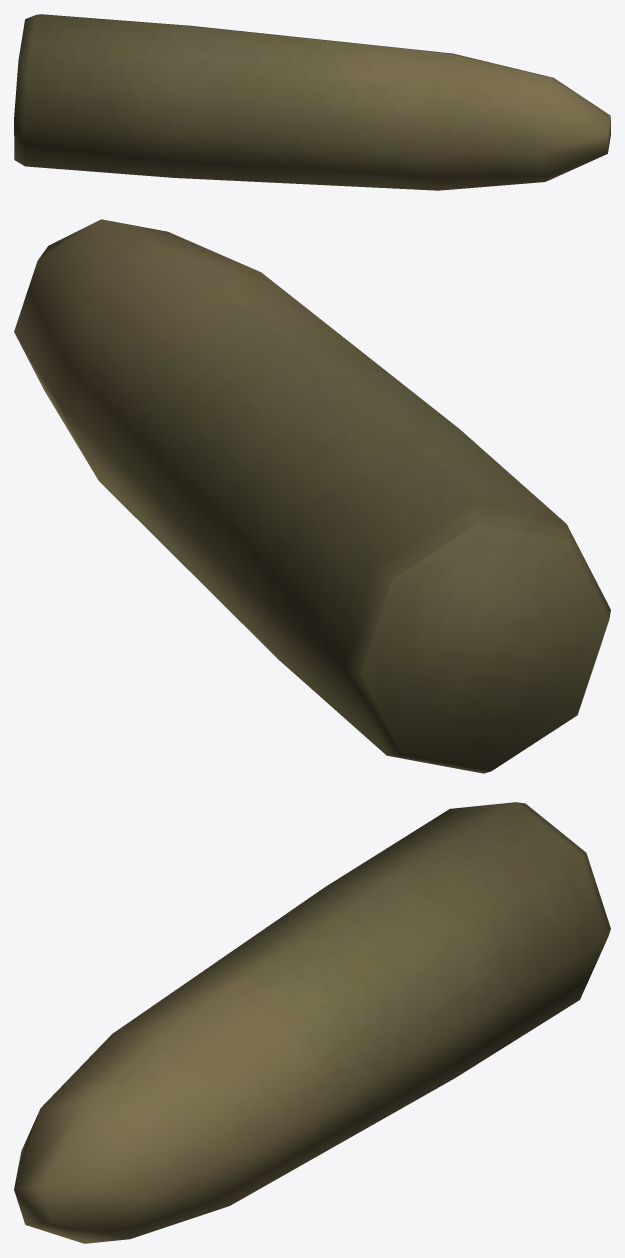
Rendered from Bullet.FBX.
3 views of the same model, one above another, from view 1: azimuth 30°, elevation 25°; view 2: azimuth 150°, elevation 25°; view 3: azimuth 270°, elevation 25° (orthographic). The views are drawn at different scales.
Parts seen in each view (by area): view 1: Cylinder014; view 2: Cylinder014; view 3: Cylinder014.
Boxes of the visible parts, x1=… form: Cylinder014: x1=14, y1=14, x2=610, y2=190; Cylinder014: x1=14, y1=219, x2=610, y2=773; Cylinder014: x1=14, y1=802, x2=610, y2=1243.
Size of the model in its own units: 18.94 by 6.07 by 15.16.
Materials: 1 (1 with a texture image).
